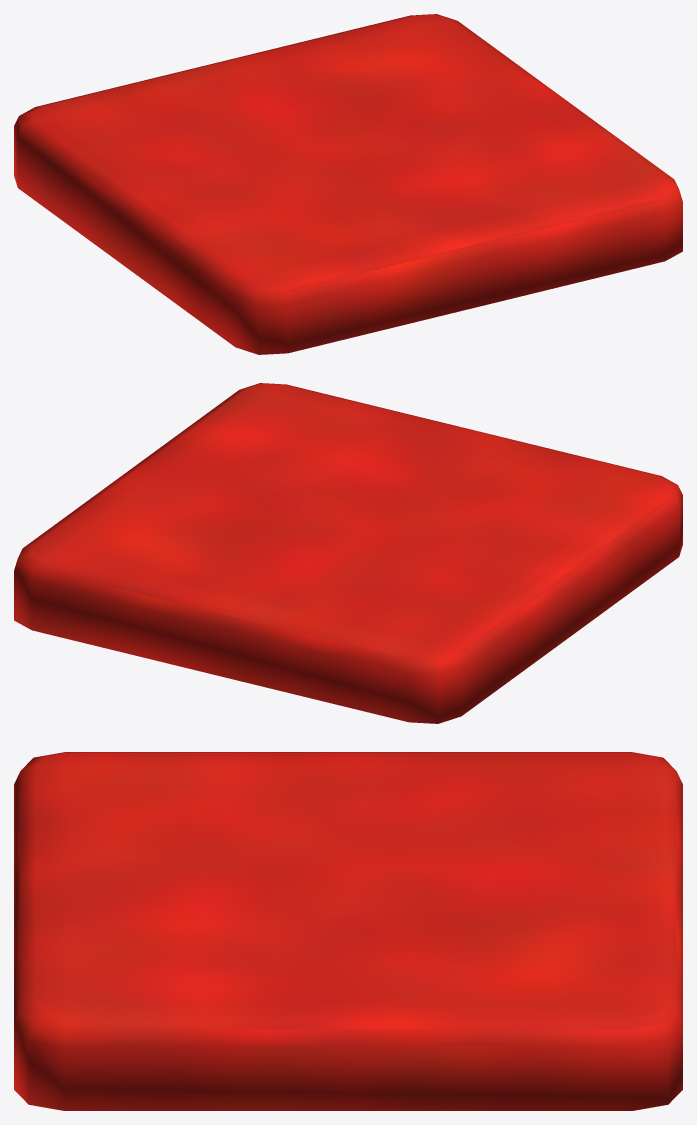
The model's file is Button_top.glb.
3 views of the same model, one above another, from view 1: azimuth 30°, elevation 25°; view 2: azimuth 150°, elevation 25°; view 3: azimuth 270°, elevation 25° (orthographic). The views are drawn at different scales.
Parts seen in each view (by area): view 1: Cube.007; view 2: Cube.007; view 3: Cube.007.
Boxes of the visible parts, left/top/right/bottom form: Cube.007: left=14, top=14, right=682, bottom=354; Cube.007: left=14, top=383, right=682, bottom=723; Cube.007: left=14, top=752, right=682, bottom=1110.
Bounding box in the file's own units: 1.3 × 0.1813 × 1.3.
Materials: 1 (1 with a texture image).
